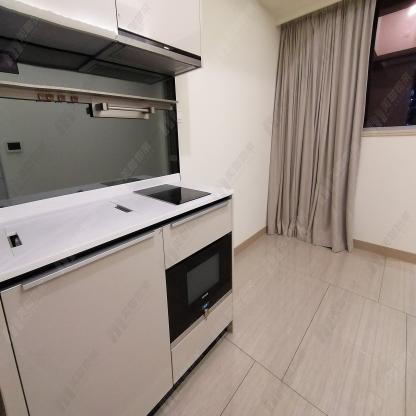Cupboard: (5, 198, 235, 415)
Exhaust Hood: (79, 27, 203, 85), (94, 29, 201, 78)
Oven: (165, 232, 232, 351), (166, 232, 235, 346)
Stove: (133, 183, 212, 206), (134, 184, 210, 205)
